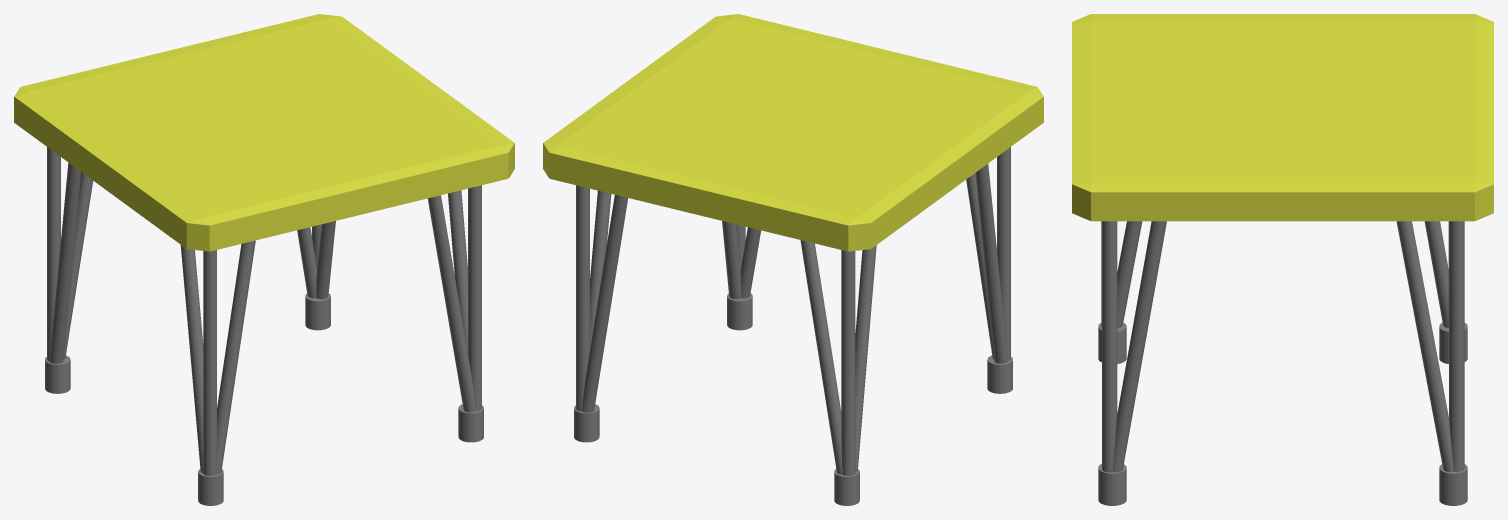
File: chair_3.glb
3 views of the same model, side by side, from view 1: azimuth 30°, elevation 25°; view 2: azimuth 150°, elevation 25°; view 3: azimuth 270°, elevation 25° (orthographic). The views are drawn at different scales.
Parts seen in each view (by area): view 1: 立方体; view 2: 立方体; view 3: 立方体.
Boxes of the visible parts, <box> form: 立方体: <box>14,14,514,505</box>; 立方体: <box>543,14,1043,505</box>; 立方体: <box>1072,14,1493,505</box>.
Bounding box in the file's own units: 0.3742 × 0.3207 × 0.3742.
